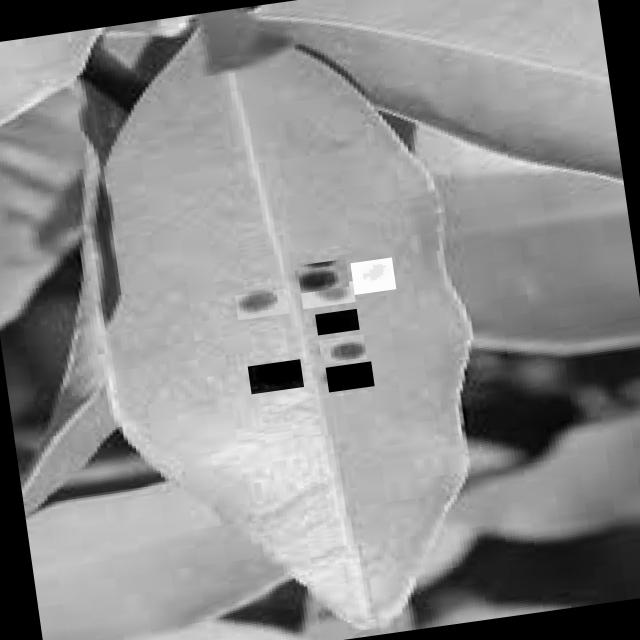scale_insect: (247, 360, 303, 394), (296, 258, 348, 294), (234, 288, 289, 320), (349, 258, 395, 296), (300, 282, 354, 310), (324, 362, 374, 392), (318, 334, 366, 365), (314, 309, 358, 336)
